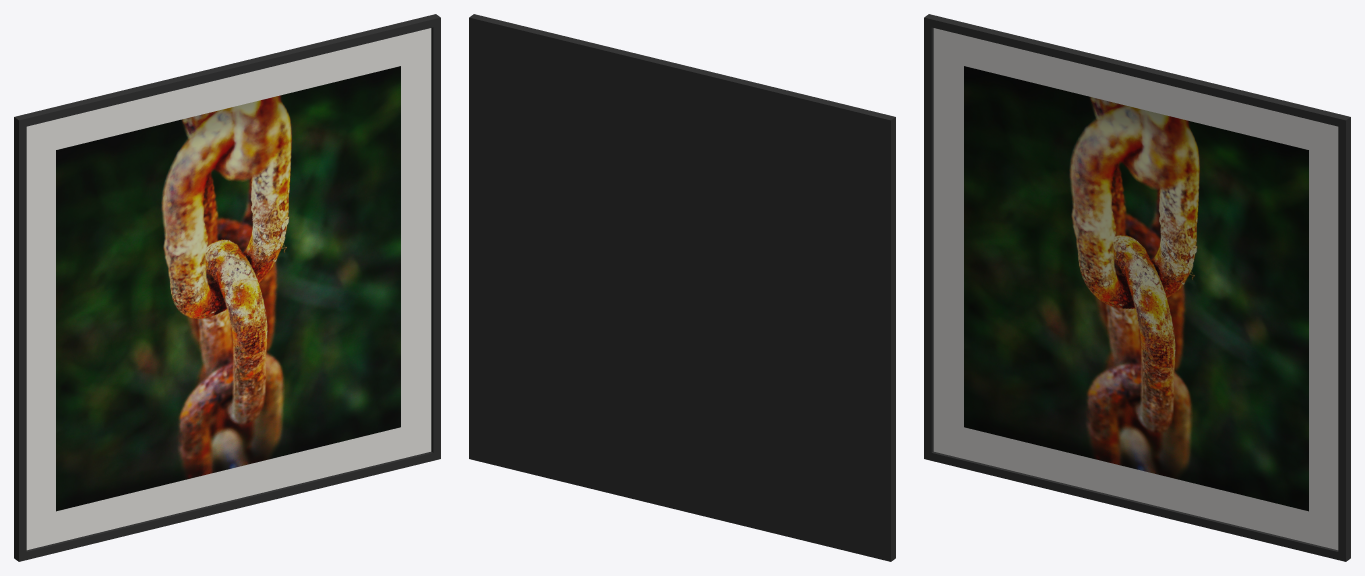
Rendered from kedjan-90.gltf.
3 renders of one model, left to right at view 1: azimuth 30°, elevation 25°; view 2: azimuth 150°, elevation 25°; view 3: azimuth 330°, elevation 25°, orthographic.
Visible parts, largest first — view 1: tavla; view 2: tavla; view 3: tavla.
Boxes of the visible parts, <box> form: tavla: <box>14,14,440,561</box>; tavla: <box>469,14,895,561</box>; tavla: <box>924,14,1350,561</box>.
Size of the model in its own units: 1.1 by 1.1 by 0.022.
3 materials, 1 textured.
